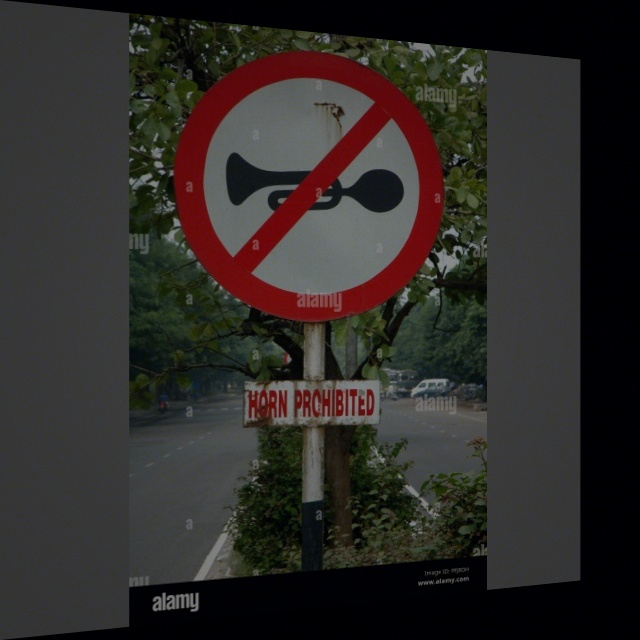Horn_Prohibited: (183, 43, 442, 314)
